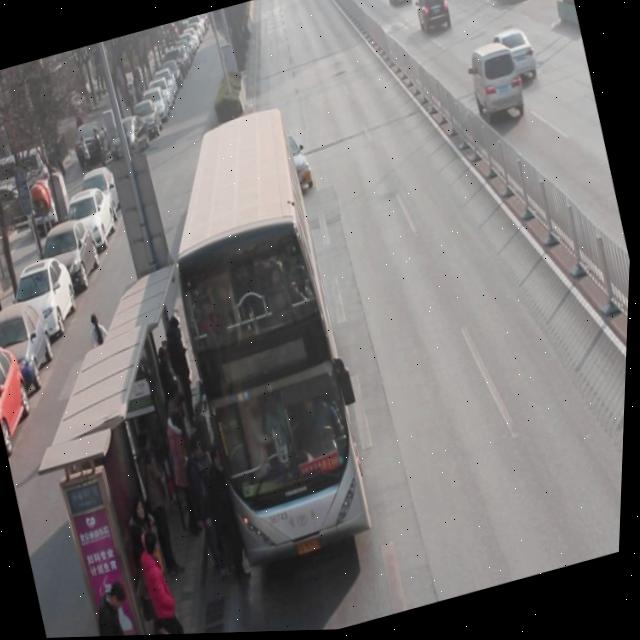car: (256, 119, 317, 200), (490, 26, 544, 97), (411, 0, 456, 43), (382, 0, 414, 13), (341, 0, 365, 2)
truck: (463, 40, 534, 134)
van: (140, 112, 390, 569)
